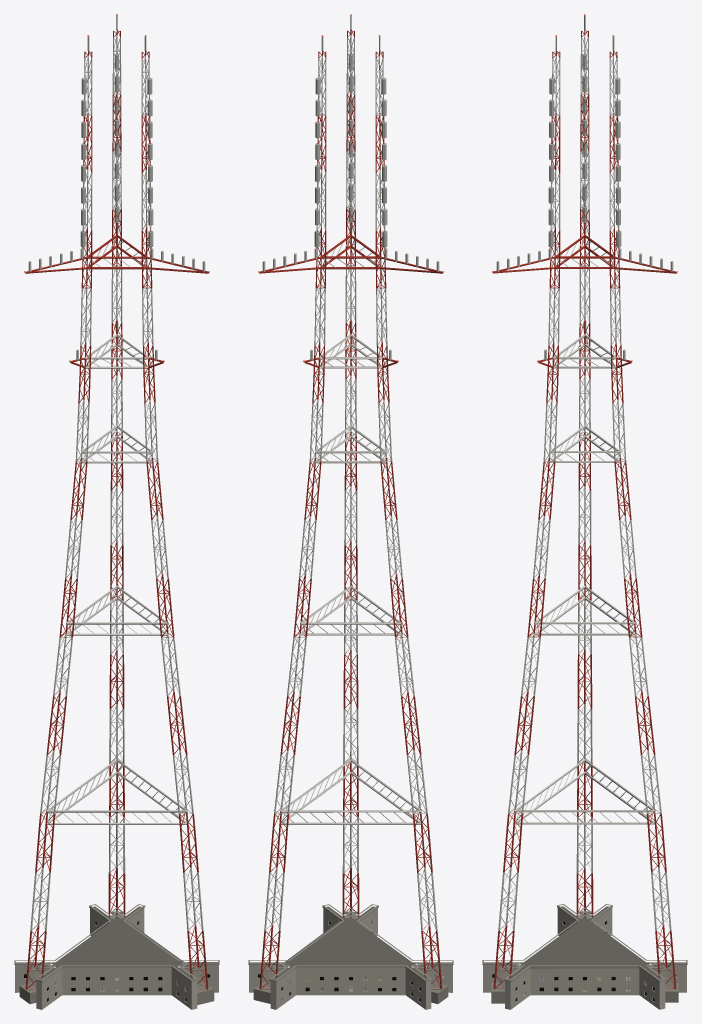
File: sutro_lod0.glb
3 views of the same model, side by side, from view 1: azimuth 30°, elevation 25°; view 2: azimuth 150°, elevation 25°; view 3: azimuth 270°, elevation 25° (orthographic).
Parts seen in each view (by area): view 1: L0_paint, L0_concrete, L0_roof; view 2: L0_paint, L0_concrete, L0_roof; view 3: L0_paint, L0_concrete, L0_roof.
Boxes of the visible parts, x1,y1,x2,y2 form: L0_paint: (25, 29, 208, 989); L0_concrete: (14, 904, 219, 1009); L0_roof: (16, 906, 217, 979); L0_paint: (259, 29, 442, 989); L0_concrete: (248, 904, 453, 1009); L0_roof: (250, 906, 451, 979); L0_paint: (493, 30, 676, 989); L0_concrete: (482, 904, 687, 1009); L0_roof: (484, 906, 685, 979).
Size of the model in its own units: 53.39 by 305 by 59.72.
